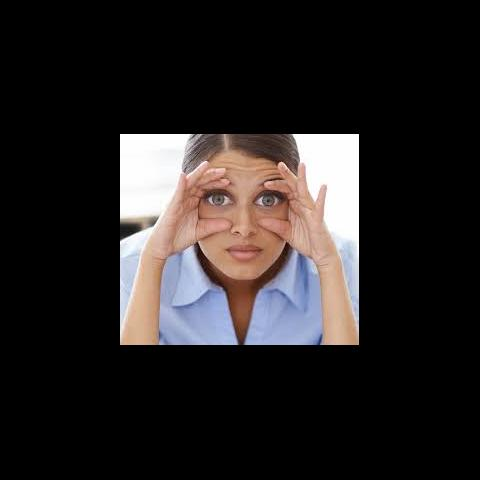opened: (196, 181, 290, 217)
